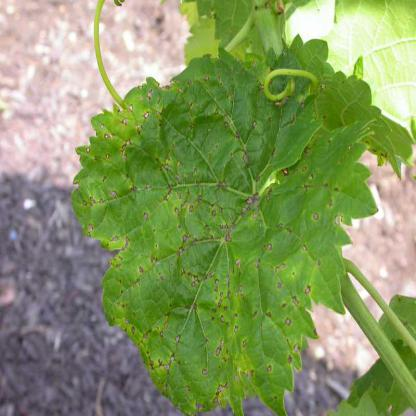grape leaf black rot: (66, 55, 380, 413)
